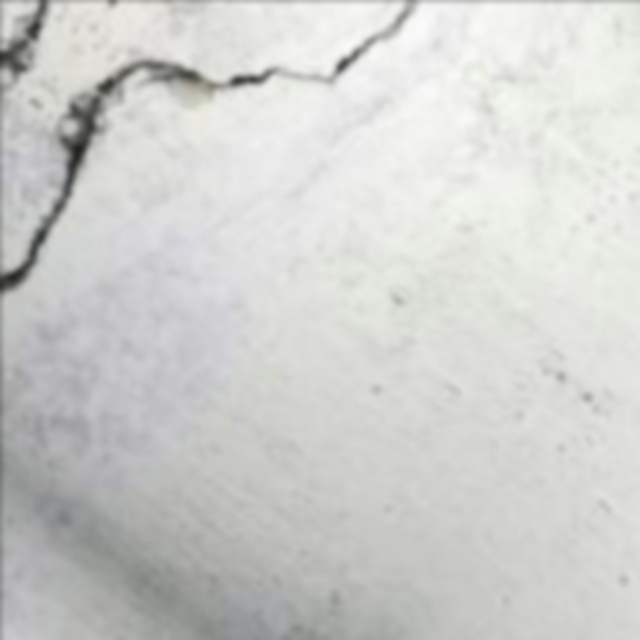SurfaceCrack: (0, 12, 446, 290)
